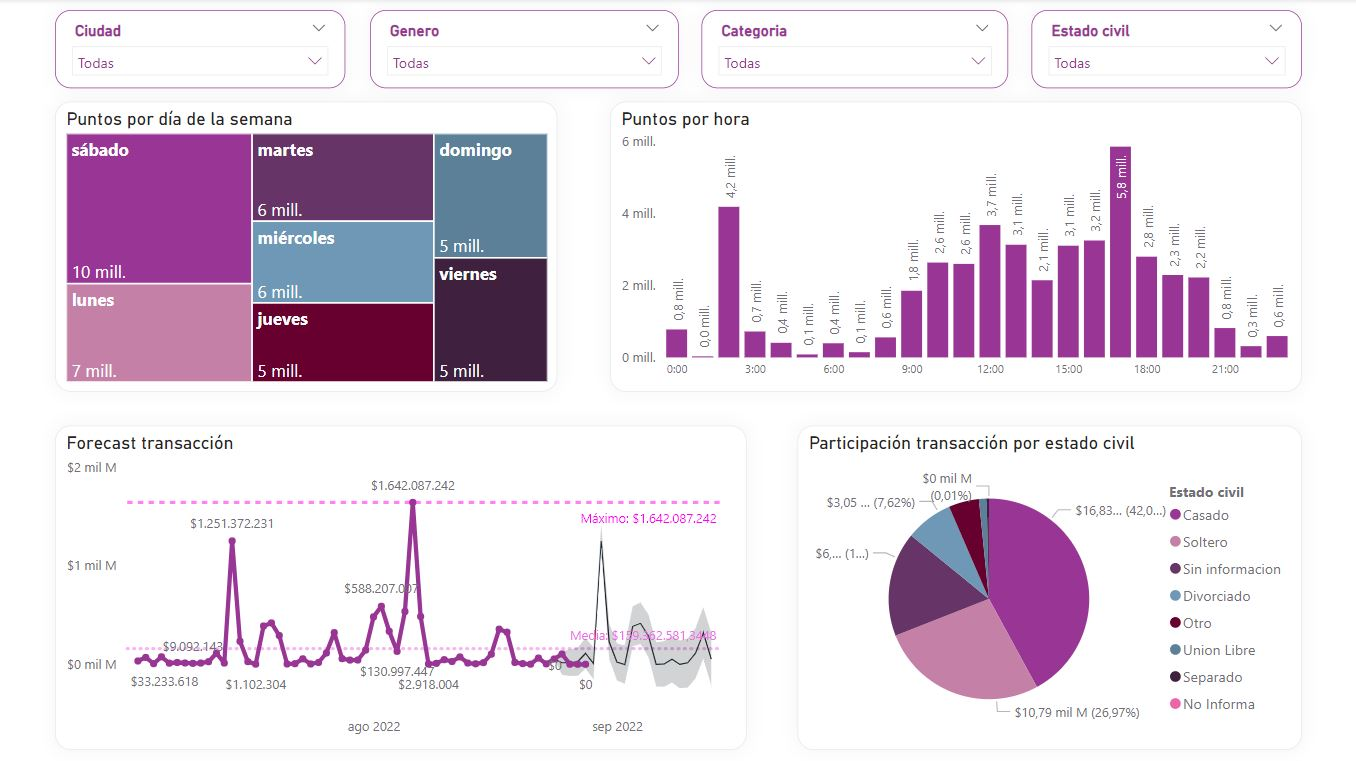

Layout of this report page (visuals, bound fields, positions):
{"tool":"powerbi","page":{"name":"Página 2","canvas":[1280,720],"ordinal":1},"visuals":[{"type":"treemap","title":"Puntos por día de la semana","fields":{"Group":["Transacciones.Nombre del día"],"Values":["Sum(Transacciones.puntos)"]},"box":[56.6,96.3,470.8,272.1],"z":0},{"type":"columnChart","title":"Puntos por hora","fields":{"Category":["Transacciones.Inicio de la hora"],"Y":["Sum(Transacciones.puntos)"]},"box":[576.3,96.3,648.2,272.1],"z":1000},{"type":"lineChart","title":"Forecast transacción","fields":{"Category":["Transacciones.fecha"],"Y":["Sum(Transacciones.valor_transaccion)"]},"box":[56.6,400.5,648.2,304.2],"z":2000},{"type":"pieChart","title":"Participación transacción por estado civil","fields":{"Y":["Sum(Transacciones.valor_transaccion)"],"Category":["Customers.estado_civil"]},"box":[752.1,400.5,472.4,304.2],"z":3000},{"type":"slicer","fields":{"Values":["Customers.ciudad"]},"box":[56.7,10.8,271.7,73.3],"z":4000},{"type":"slicer","fields":{"Values":["Customers.genero"]},"box":[350.8,10.8,289.2,73.3],"z":5000},{"type":"slicer","fields":{"Values":["Transacciones.categoria"]},"box":[662.5,10.8,287.5,73.3],"z":6000},{"type":"slicer","fields":{"Values":["Customers.estado_civil"]},"box":[971.7,10.8,253.3,73.3],"z":7000}]}

Visuals, with their boxes in screenshot pixels (x1, y1, x2, y2), scaled from the page's 1280x720 canvas onto the 1356x761 screenshot:
"Puntos por día de la semana" treemap: bbox=[60, 102, 559, 389]
"Puntos por hora" columnChart: bbox=[611, 102, 1297, 389]
"Forecast transacción" lineChart: bbox=[60, 423, 747, 745]
"Participación transacción por estado civil" pieChart: bbox=[797, 423, 1297, 745]
slicer - Customers.ciudad: bbox=[60, 11, 348, 89]
slicer - Customers.genero: bbox=[372, 11, 678, 89]
slicer - Transacciones.categoria: bbox=[702, 11, 1006, 89]
slicer - Customers.estado_civil: bbox=[1029, 11, 1298, 89]
